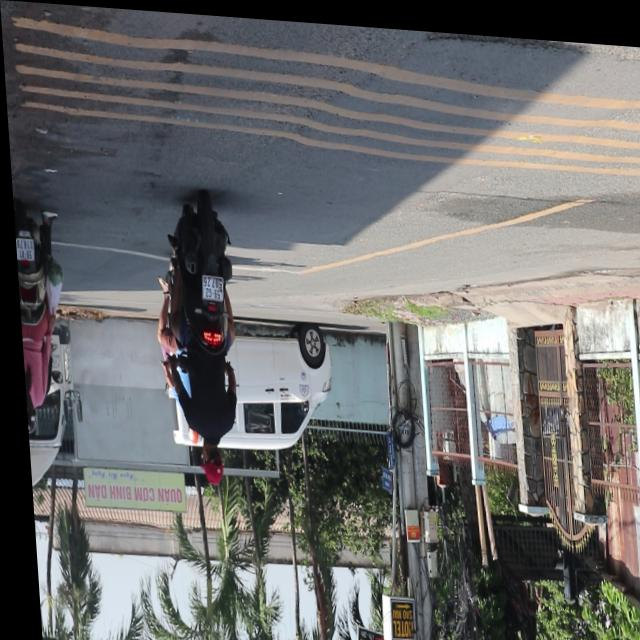helmet: (21, 405, 33, 440)
licenseplate: (148, 189, 244, 487), (11, 203, 70, 444)
motorcyclist: (195, 440, 220, 485)
nohelmet: (197, 274, 221, 299), (13, 240, 32, 262)
